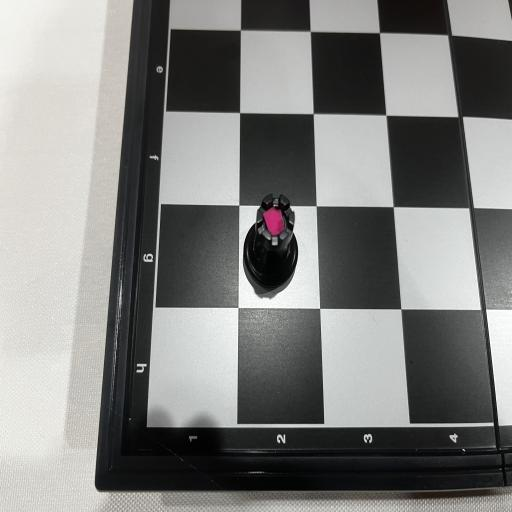Black rook: (242, 193, 298, 296)
